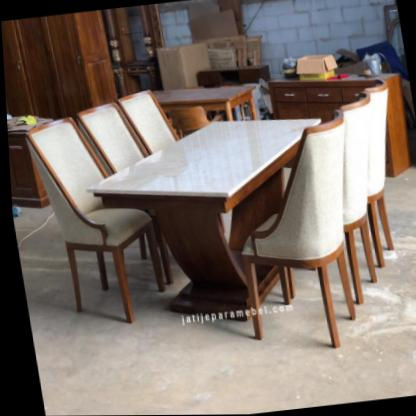Ceramic floor: (22, 168, 416, 416)
Dining Table: (10, 45, 416, 391)
